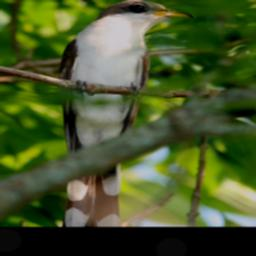Cuckoo: (55, 0, 196, 226)
